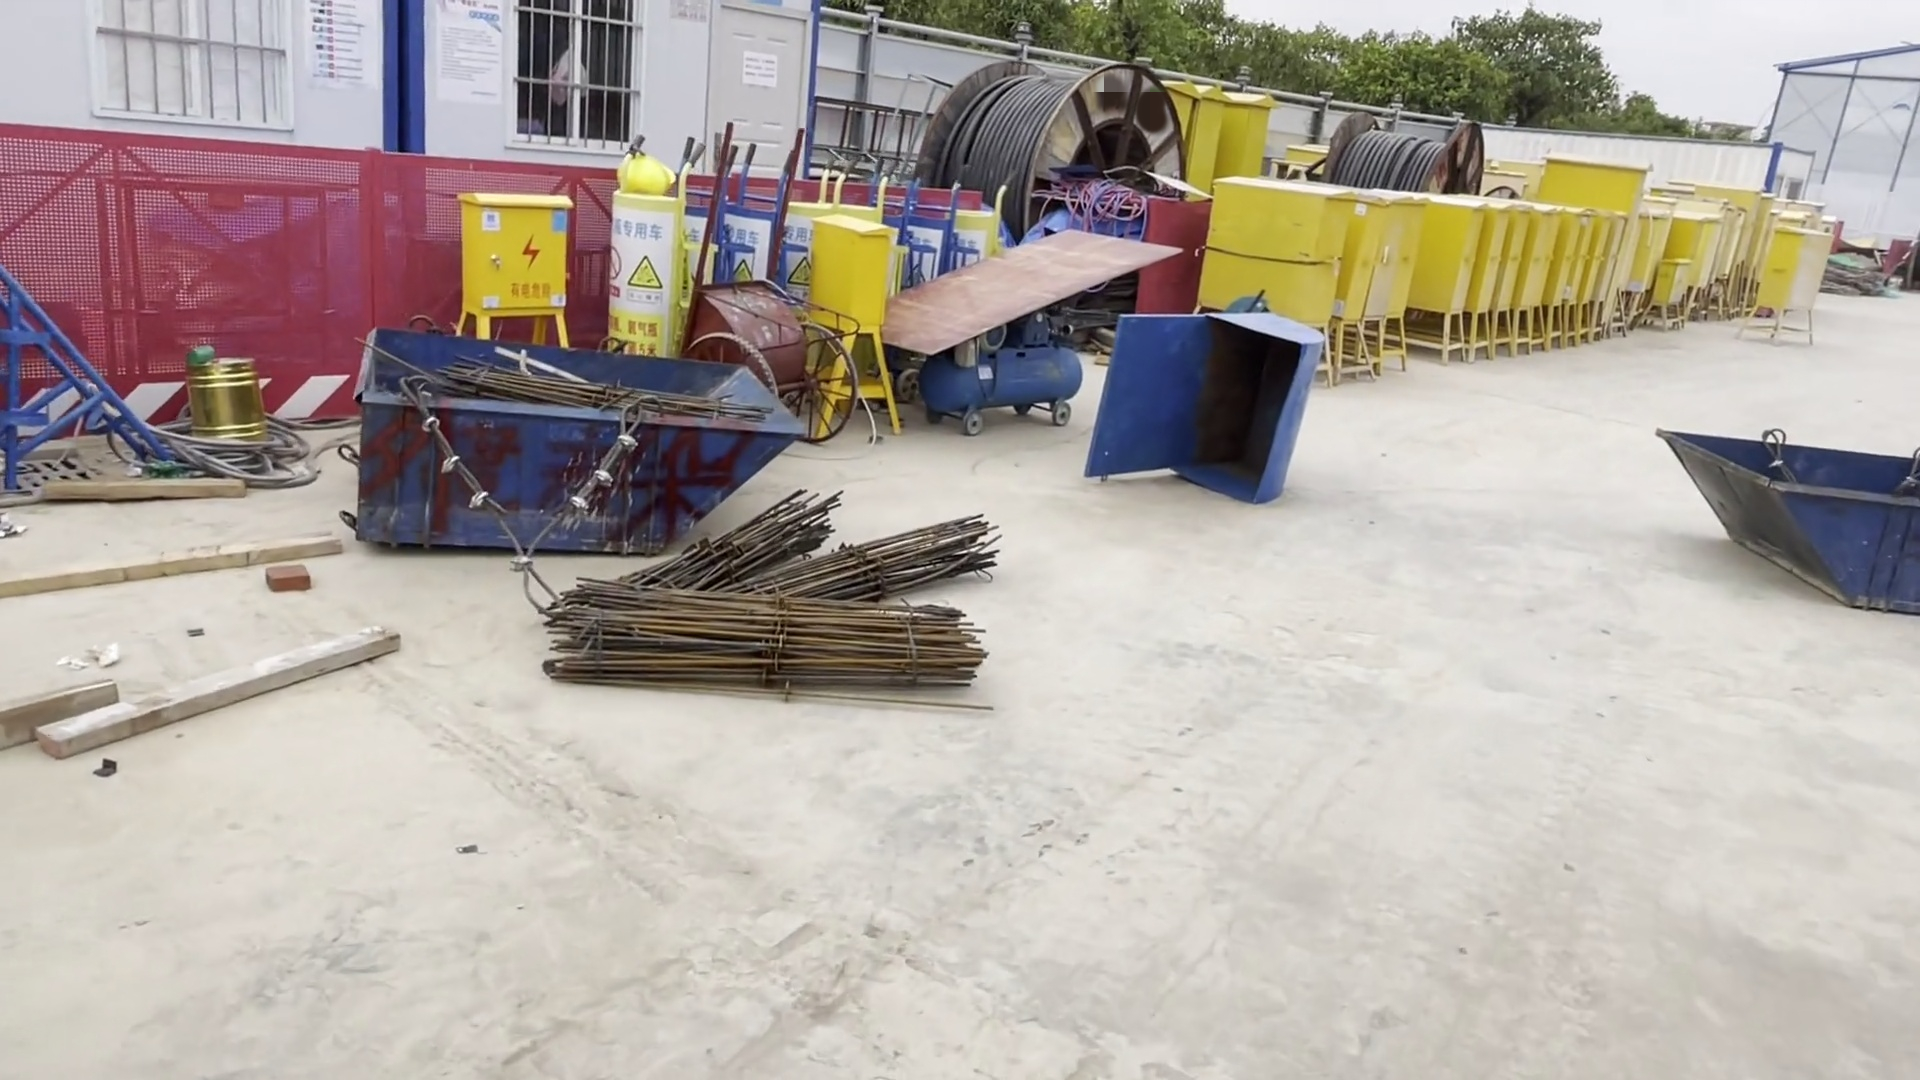ebox: (1195, 187, 1356, 311), (816, 208, 897, 439), (463, 194, 575, 339), (1327, 193, 1400, 380), (1403, 208, 1482, 360), (1739, 236, 1837, 342), (1510, 207, 1553, 357), (1589, 212, 1629, 344), (1534, 162, 1654, 204), (1549, 214, 1581, 351), (1486, 204, 1514, 360), (1636, 258, 1695, 330), (1582, 210, 1604, 353)
handcart: (702, 127, 843, 444)
hopper: (339, 349, 793, 559), (1655, 397, 1920, 618)
slogan: (607, 215, 669, 303)
